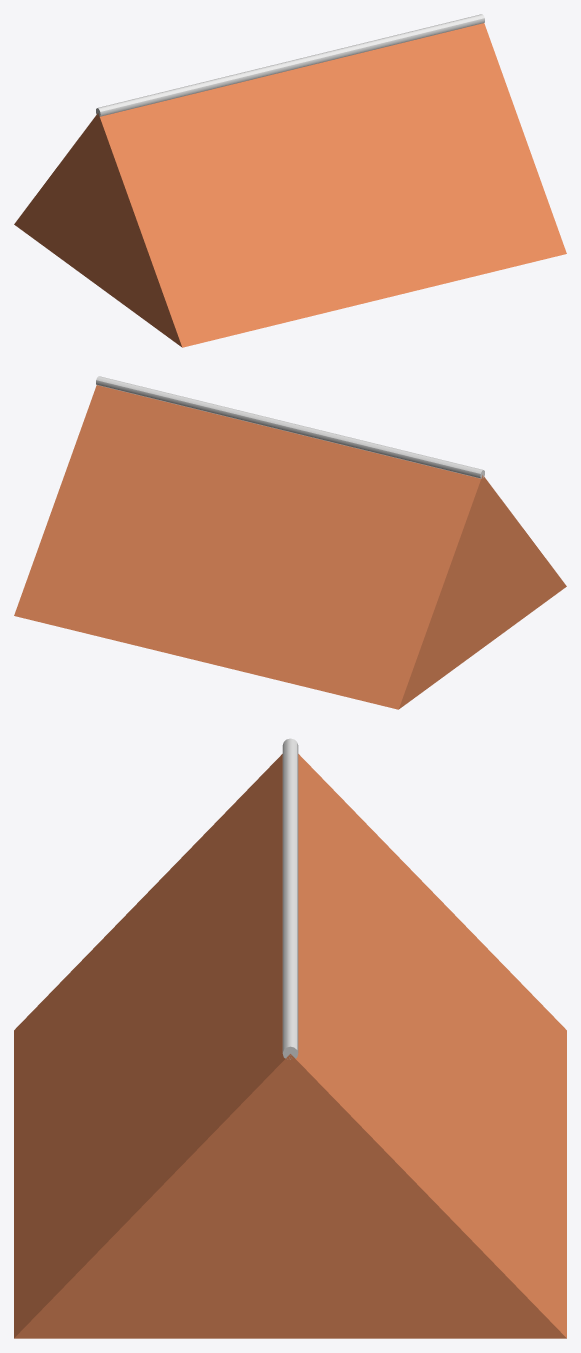
The model's file is SP_House08_Roof02.fbx.
3 views of the same model, one above another, from view 1: azimuth 30°, elevation 25°; view 2: azimuth 150°, elevation 25°; view 3: azimuth 270°, elevation 25° (orthographic). The views are drawn at different scales.
Visible parts, largest first — view 1: SP_House08_Roof02; view 2: SP_House08_Roof02; view 3: SP_House08_Roof02.
Boxes of the visible parts, x1,y1,x2,y2 form: SP_House08_Roof02: (14,14,566,347); SP_House08_Roof02: (14,376,566,709); SP_House08_Roof02: (14,738,566,1338).
Bounding box in the file's own units: 9.36 × 4.14 × 7.1.
